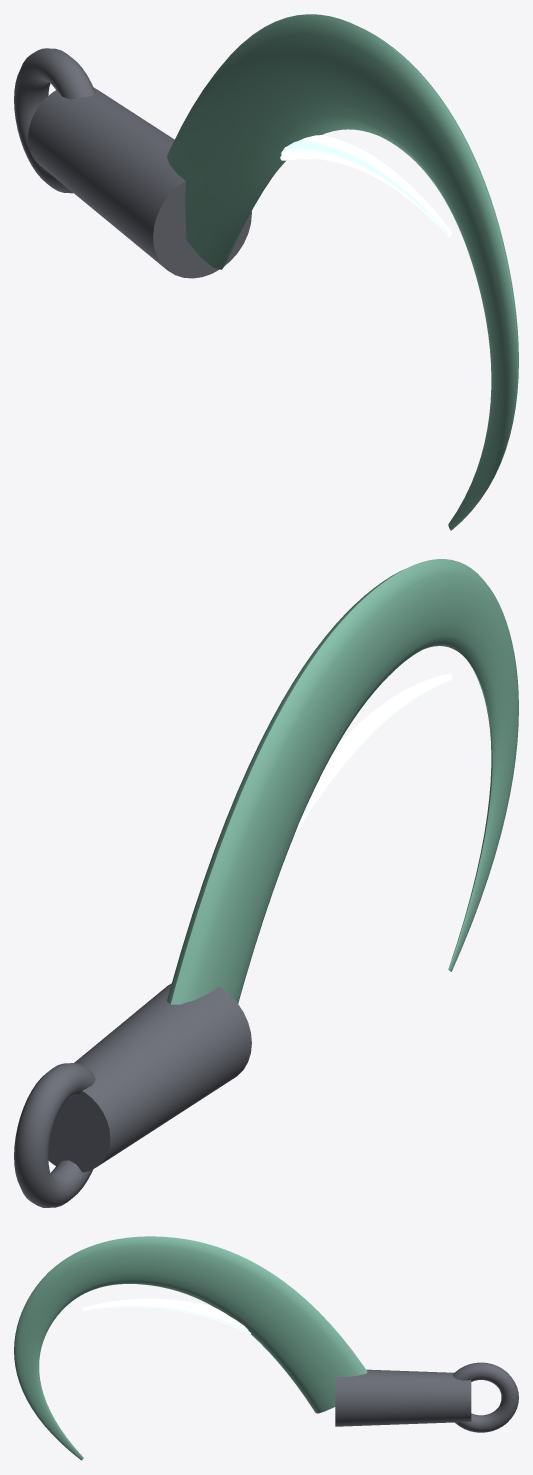
Rendered from thresh_hook.glb.
The picture shows the model from 3 angles, top to bottom: view 1: azimuth 30°, elevation 25°; view 2: azimuth 150°, elevation 25°; view 3: azimuth 270°, elevation 25°; orthographic projection. The views are drawn at different scales.
Parts seen in each view (by area): view 1: thresh_hook; view 2: thresh_hook; view 3: thresh_hook.
Part boxes in pixels (x1,y1,x2,y2): thresh_hook: (14, 14, 518, 530); thresh_hook: (14, 559, 518, 1207); thresh_hook: (14, 1236, 518, 1460).
Bounding box in the file's own units: 0.06 × 0.2545 × 0.5197.
